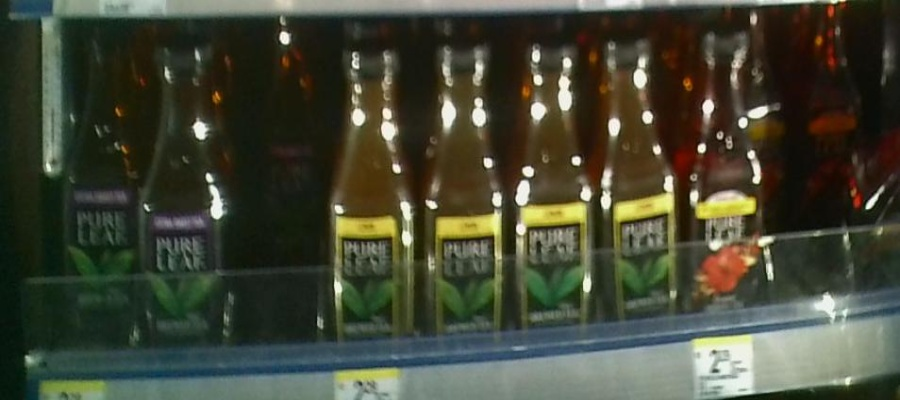bottle: (140, 35, 231, 352), (328, 48, 417, 348), (509, 39, 597, 335), (595, 38, 681, 330), (59, 28, 140, 338), (421, 42, 506, 335), (683, 32, 764, 327), (246, 15, 313, 228), (795, 2, 867, 182)
